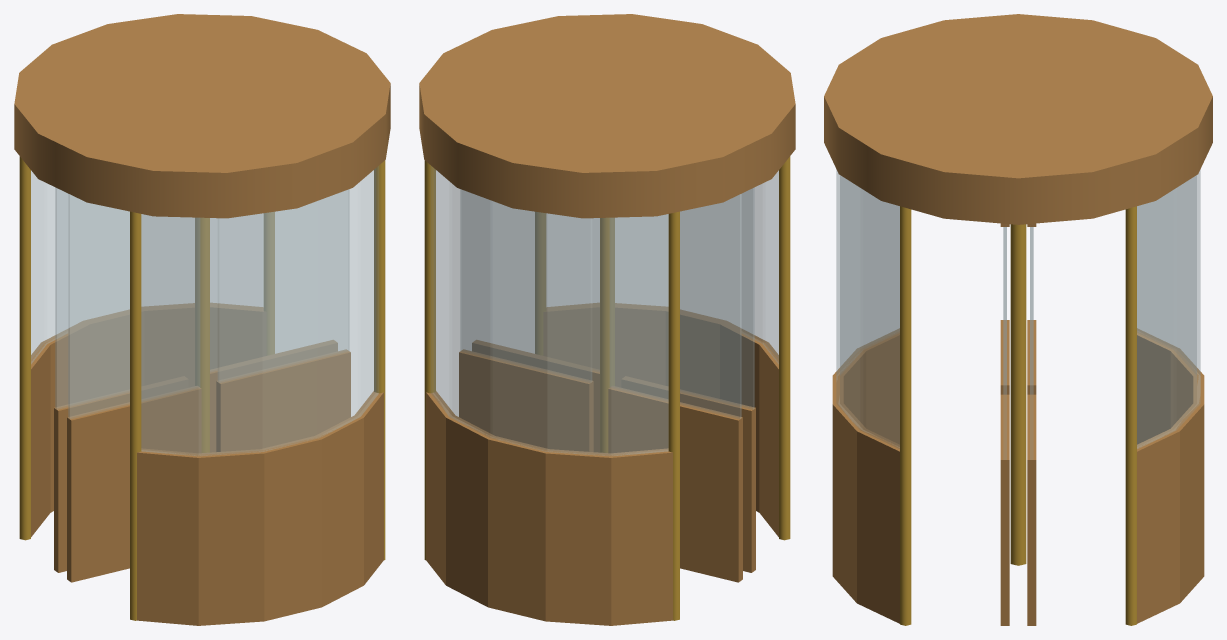
Rendered from parametric-revolving_door-crew.glb.
3 views of the same model, side by side, from view 1: azimuth 30°, elevation 25°; view 2: azimuth 150°, elevation 25°; view 3: azimuth 270°, elevation 25° (orthographic). The views are drawn at different scales.
Visible parts, largest first — view 1: parametric-revolving_door-crew; view 2: parametric-revolving_door-crew; view 3: parametric-revolving_door-crew.
Boxes of the visible parts, box(x1,y1,x2,y2) form: parametric-revolving_door-crew: box(14, 14, 390, 625); parametric-revolving_door-crew: box(419, 14, 795, 625); parametric-revolving_door-crew: box(824, 14, 1212, 625).
Size of the model in its own units: 1.74 by 2.3 by 1.74.
